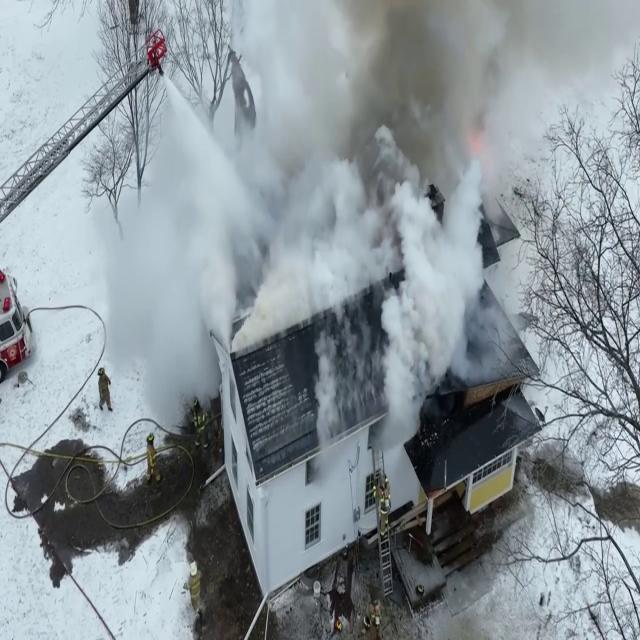Smoke: (84, 1, 514, 416)
